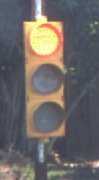Red: (17, 14, 73, 144)
